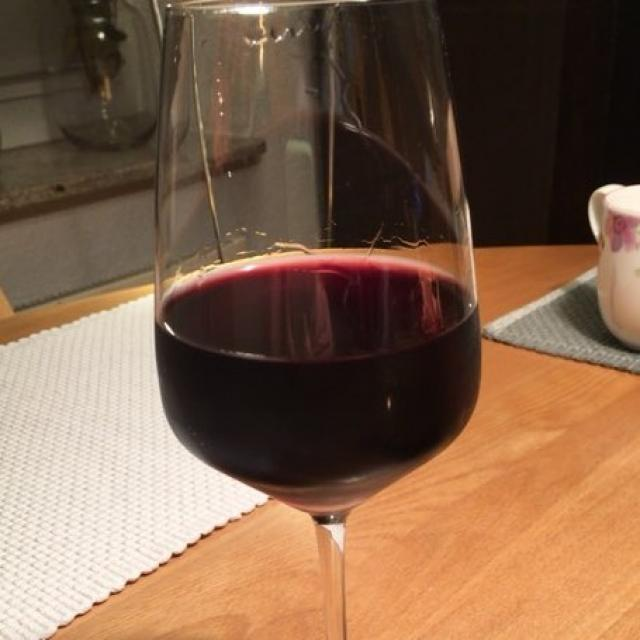wine: (160, 258, 466, 362)
